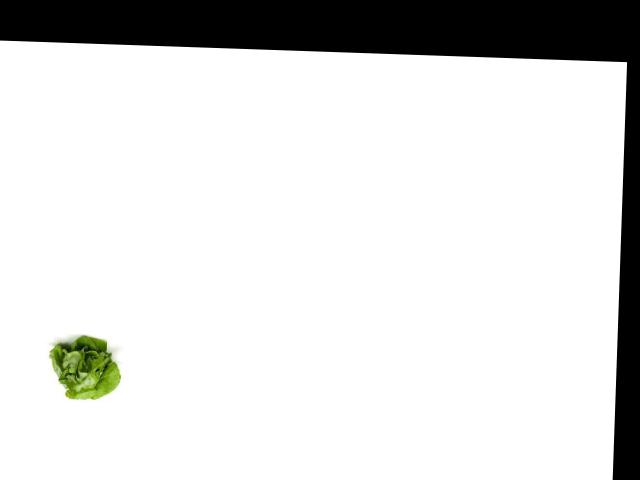lettuce: (46, 330, 123, 407)
